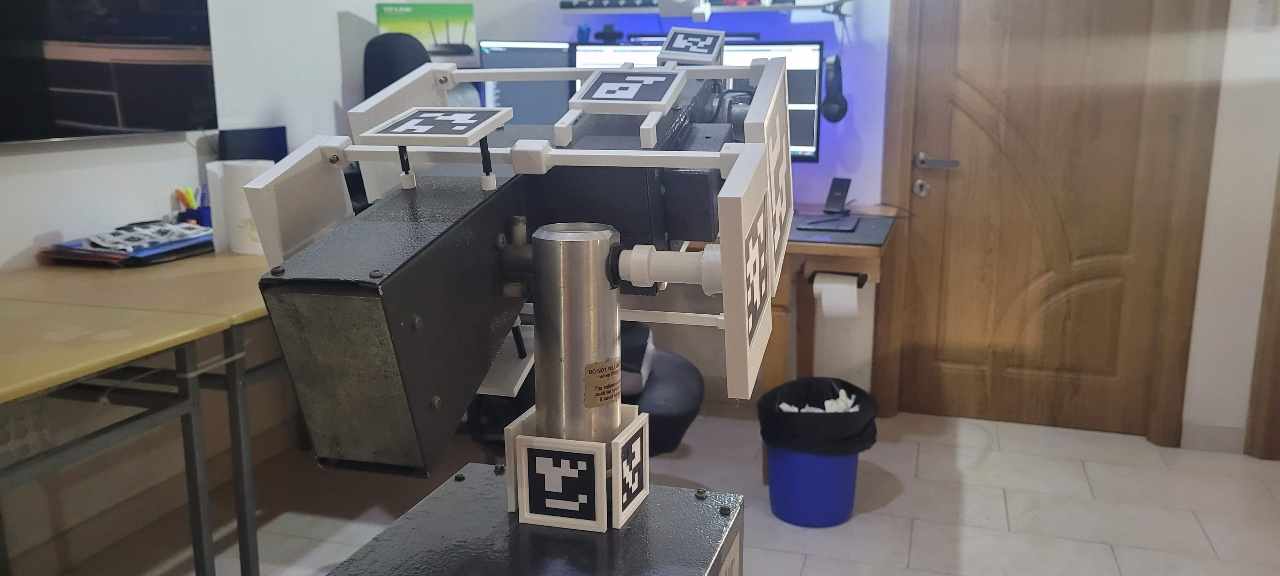Robot: (242, 26, 795, 533)
